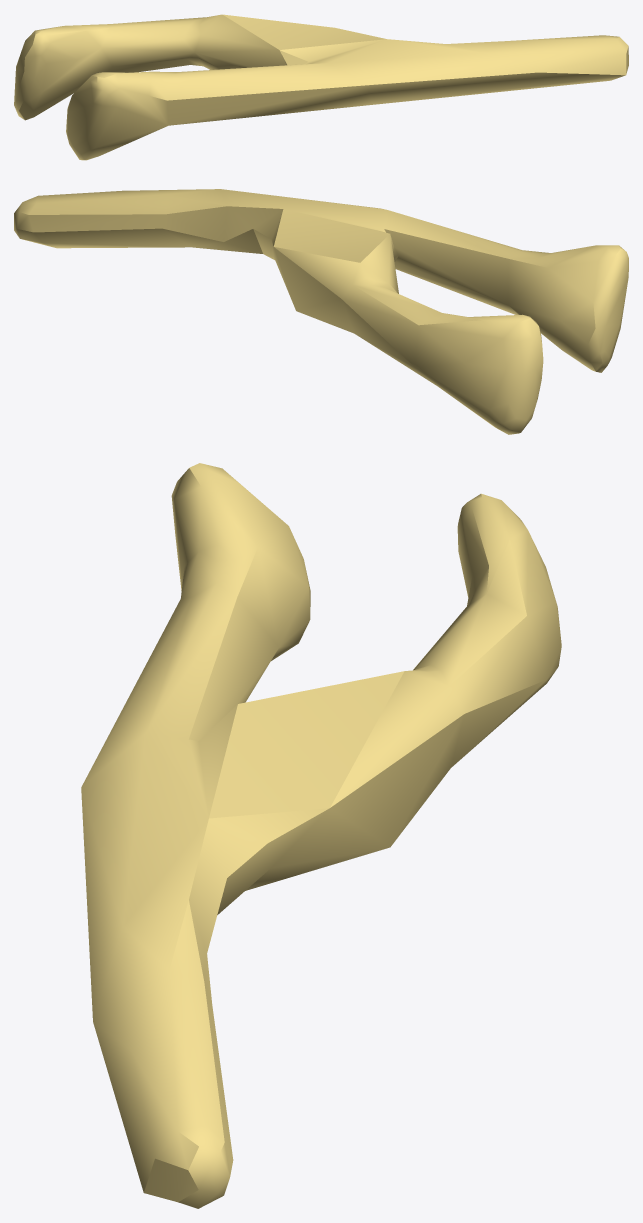
The model's file is fma7023_fj4245.glb.
3 views of the same model, one above another, from view 1: azimuth 30°, elevation 25°; view 2: azimuth 150°, elevation 25°; view 3: azimuth 270°, elevation 25° (orthographic). The views are drawn at different scales.
Parts seen in each view (by area): view 1: FMA7023_FJ4245; view 2: FMA7023_FJ4245; view 3: FMA7023_FJ4245.
Boxes of the visible parts, box(x1,y1,x2,y2) form: FMA7023_FJ4245: box(14, 14, 628, 160); FMA7023_FJ4245: box(14, 189, 628, 434); FMA7023_FJ4245: box(81, 463, 561, 1208).
Bounding box in the file's own units: 0.0246 × 0.0054 × 0.00953.
